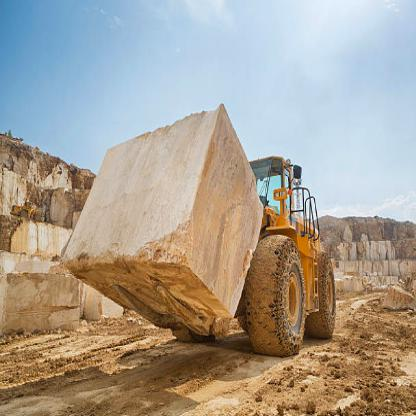Metamorphic_Marble: (65, 94, 268, 338)
